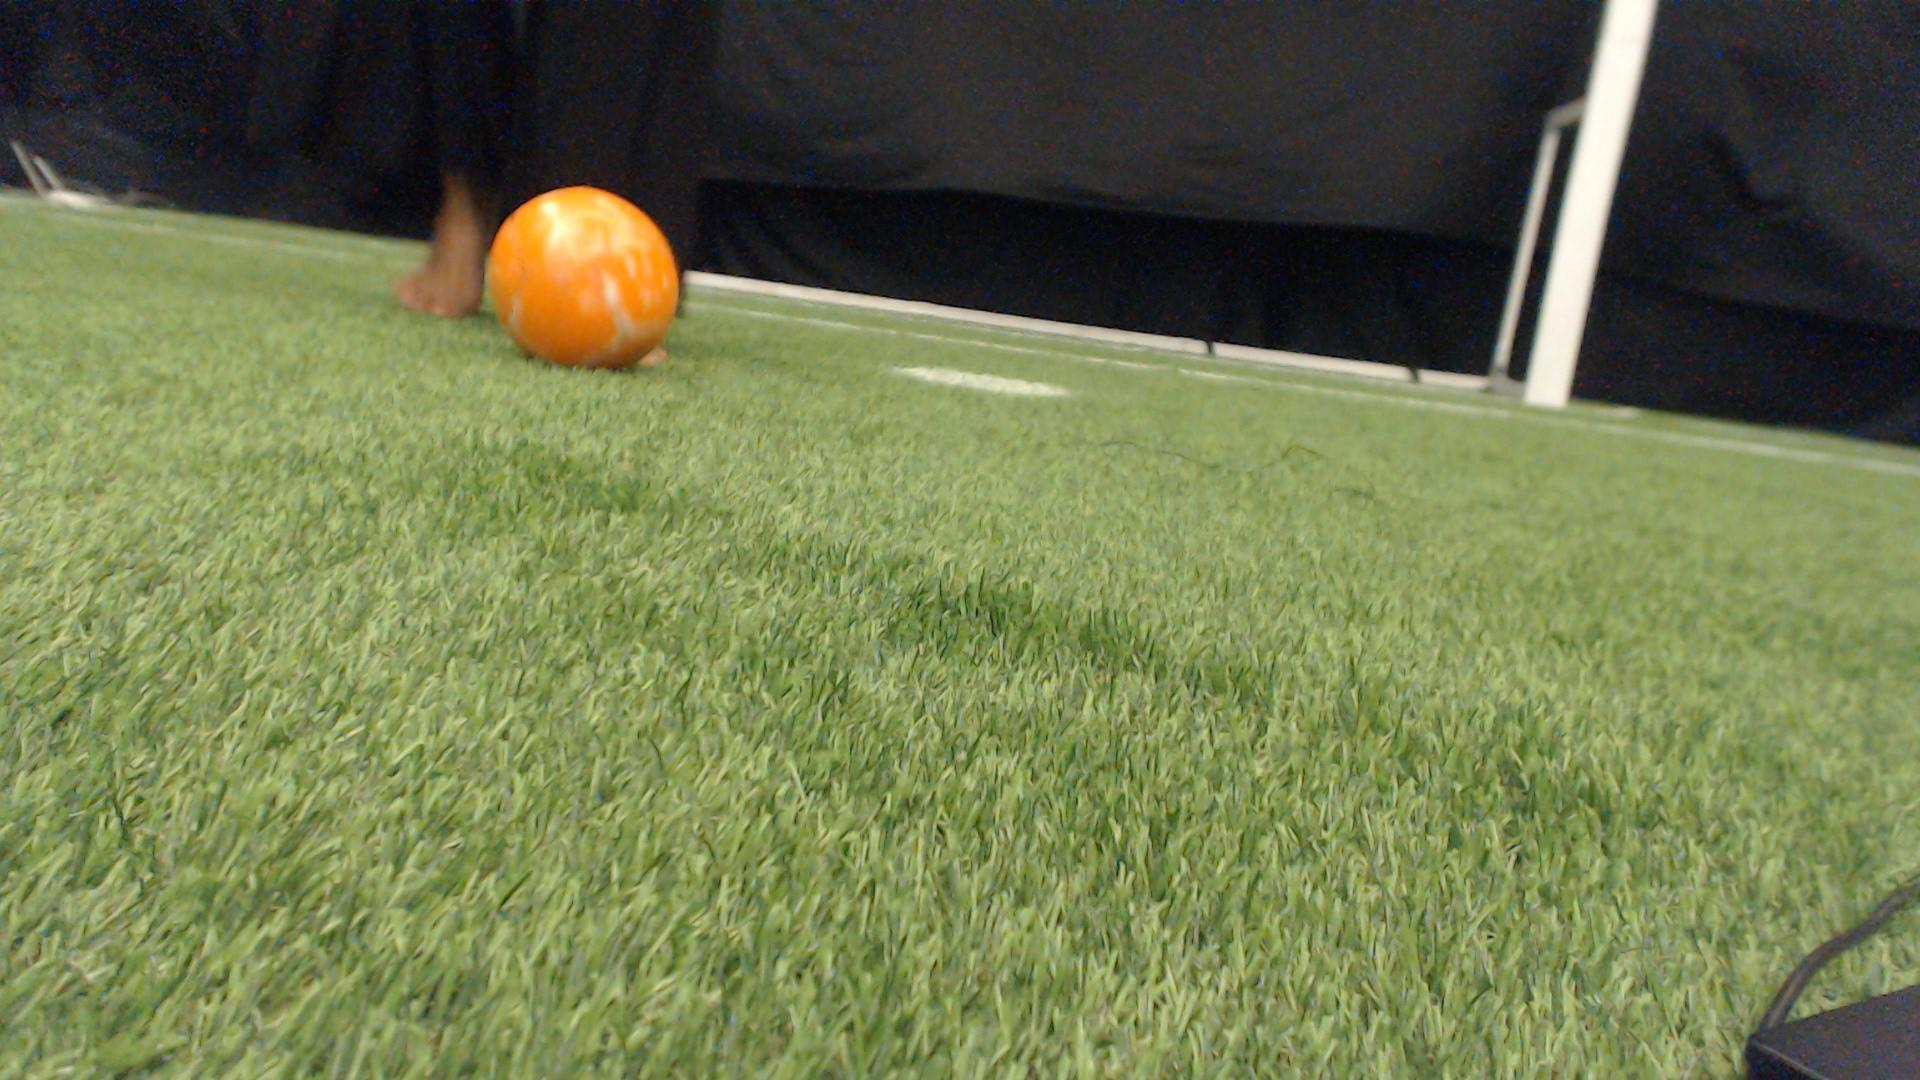bola: (475, 178, 694, 389)
